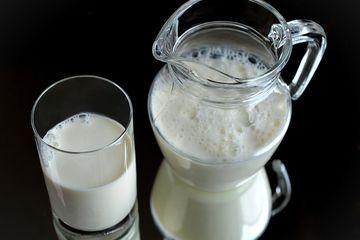produk_susu: (174, 48, 266, 171), (53, 91, 125, 220)
